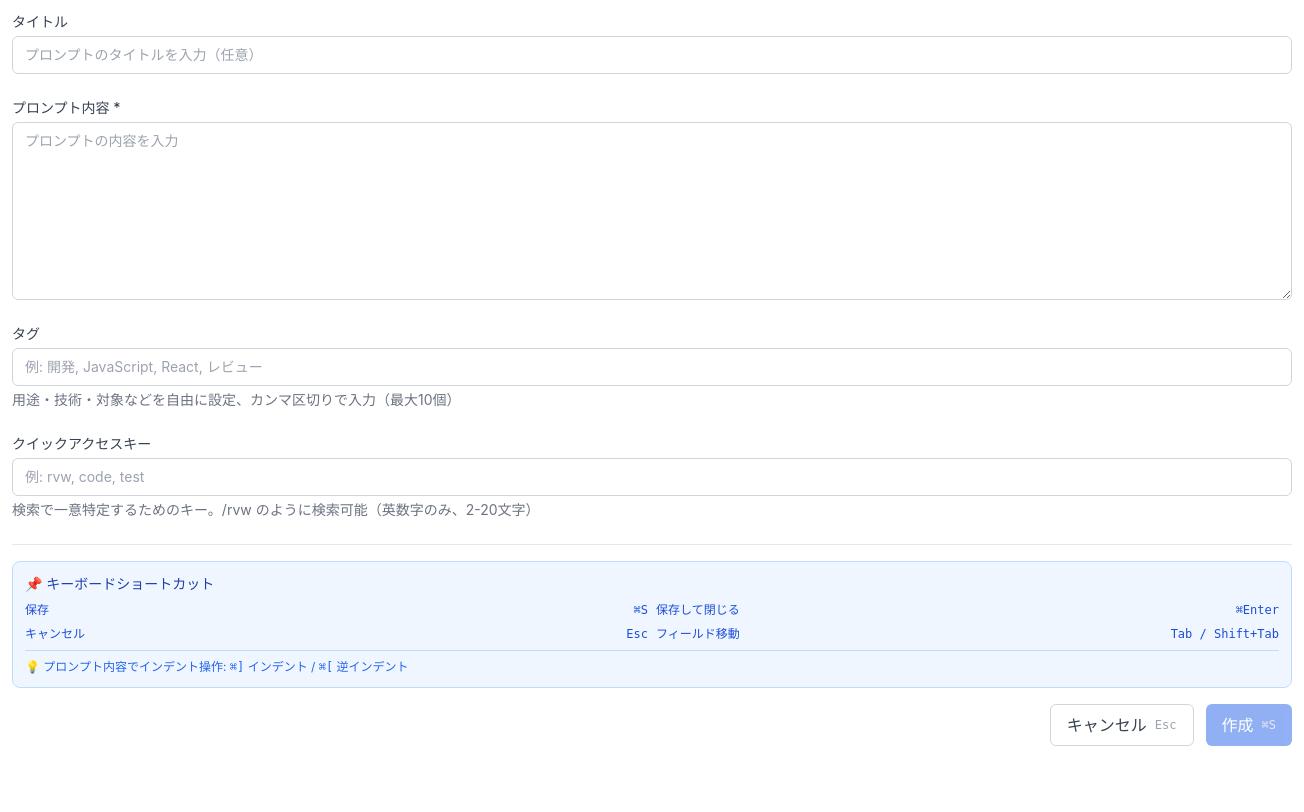
Test: PromptForm › enables submit button when required fields are filled
Fill required field (content only, title is now optional)
Type "Test Content" into the text box labelled "プロンプト内容 *".
click(652, 211); type("Test Content")  # box [12, 122, 1292, 300]
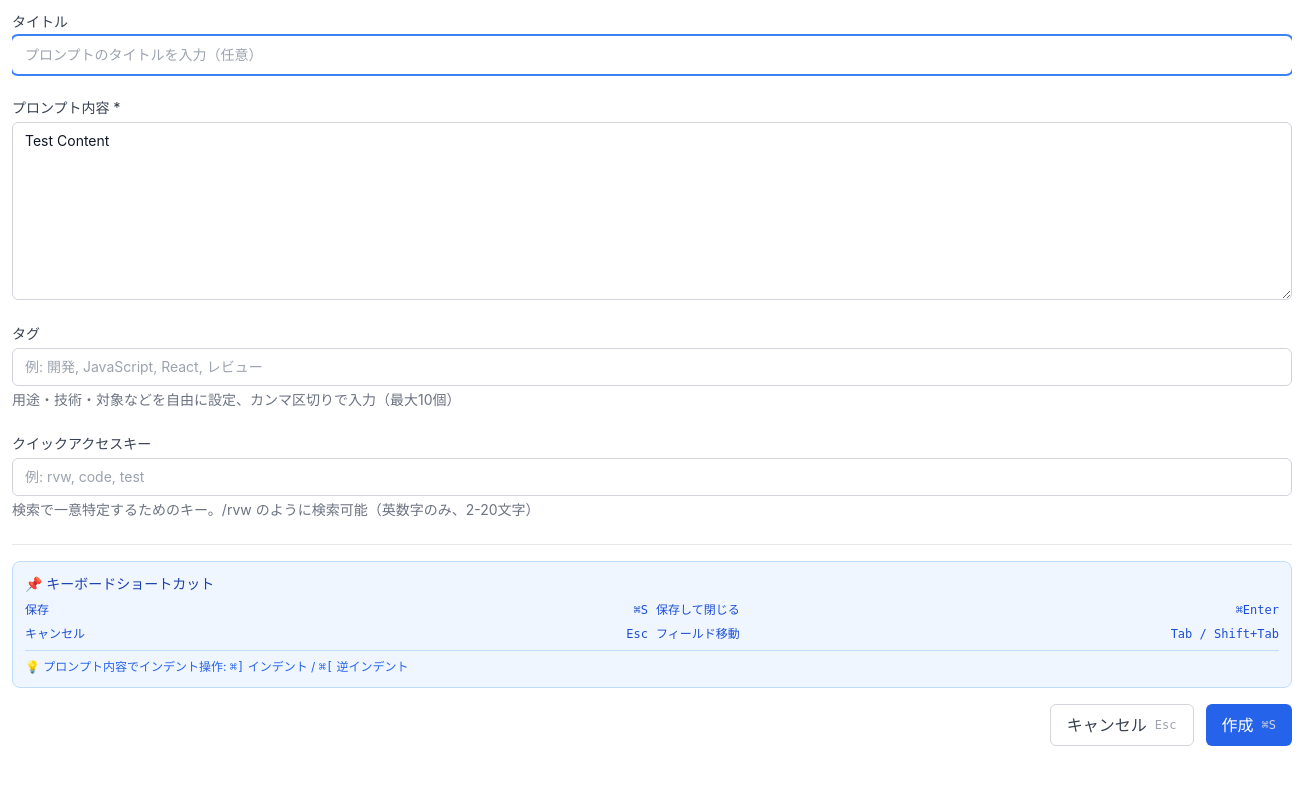
Check: the button "作成 ⌘S" is enabled, box [1206, 704, 1292, 746]
